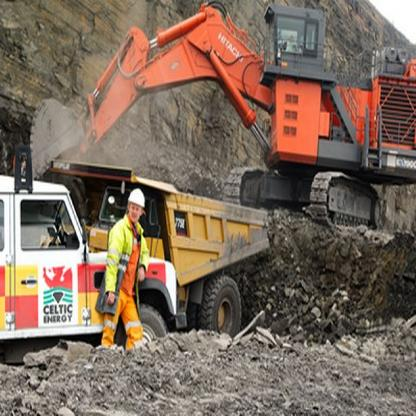person: (98, 185, 159, 358)
